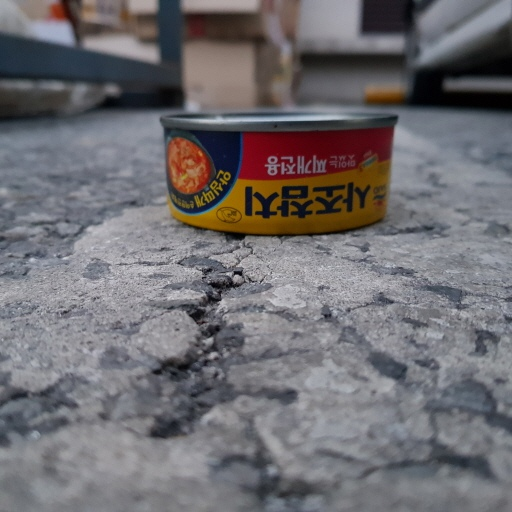Metal_1: (159, 105, 401, 232)
